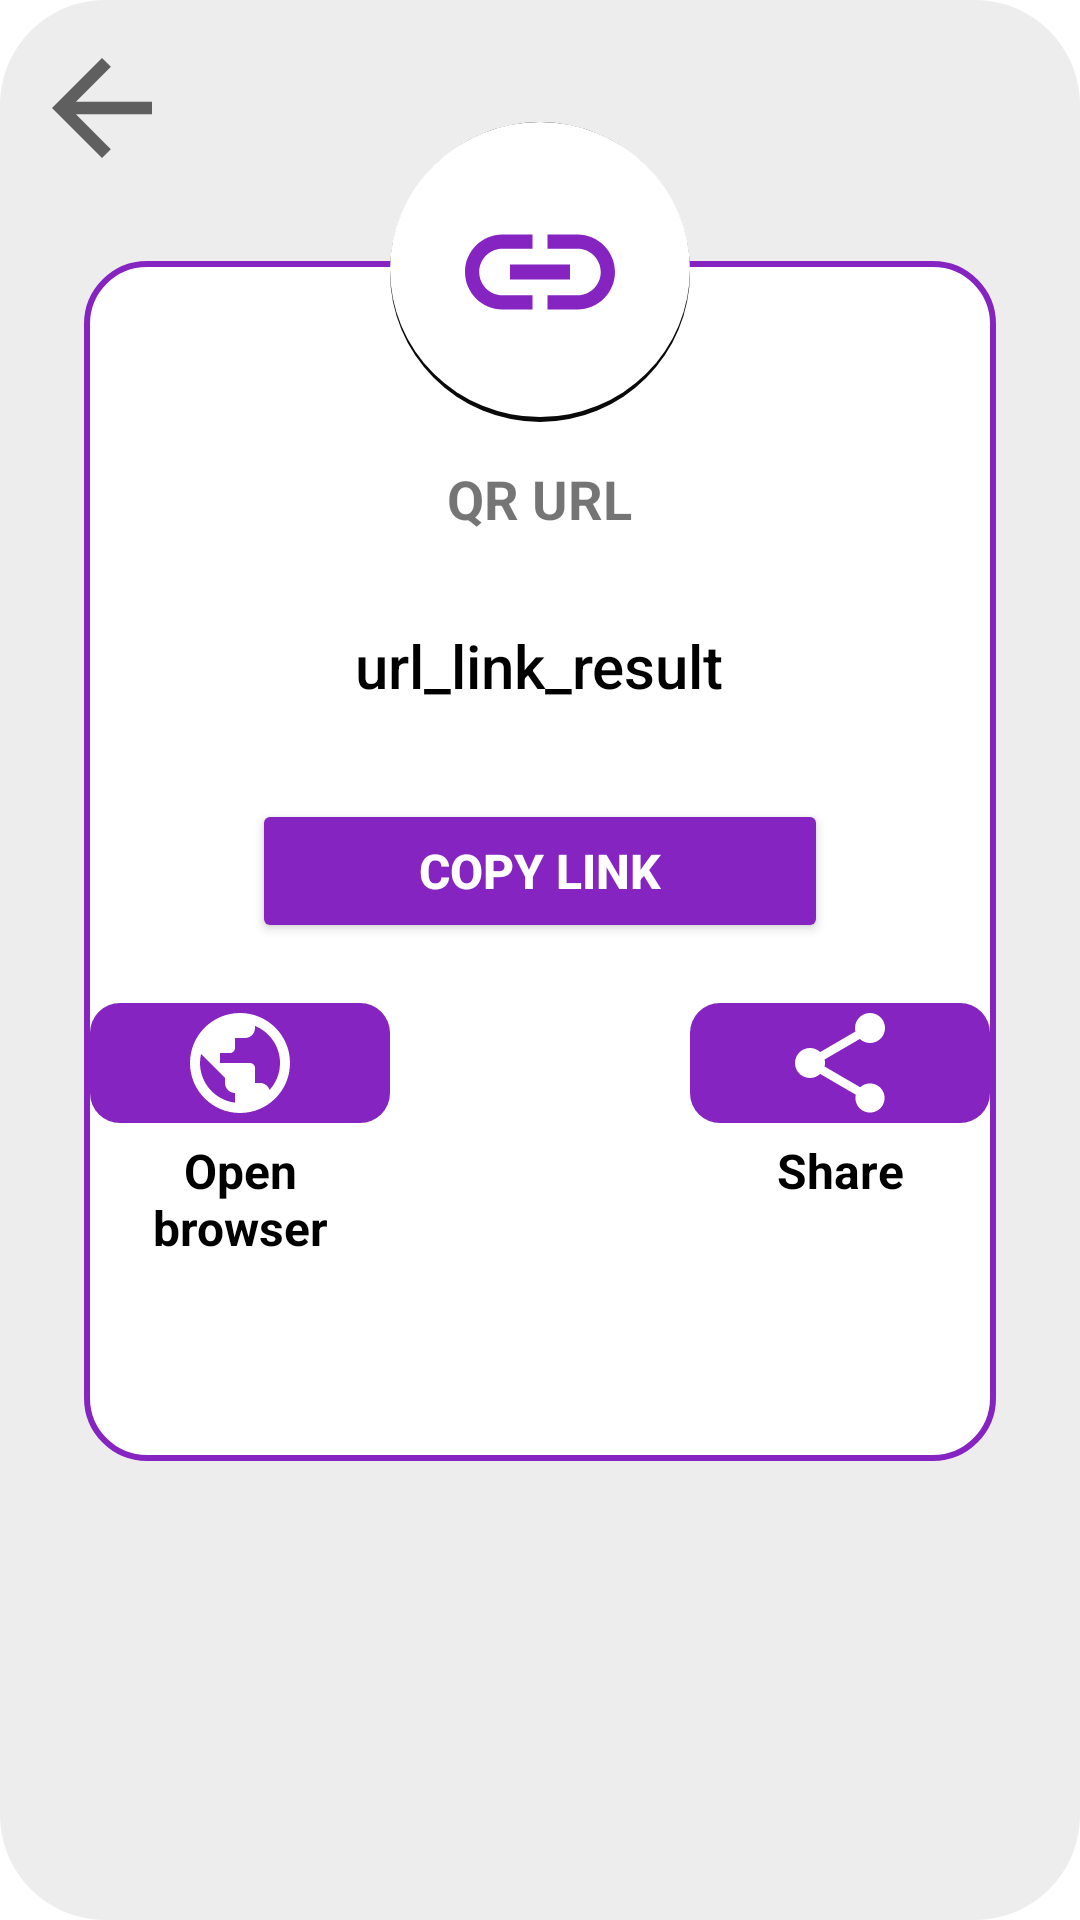

Locate icon controls on the screen. Image size 1080px×1920px, boxes as (x1, y1, x2, y2).
arrow back: (52, 58, 152, 158)
link: (390, 122, 690, 422)
